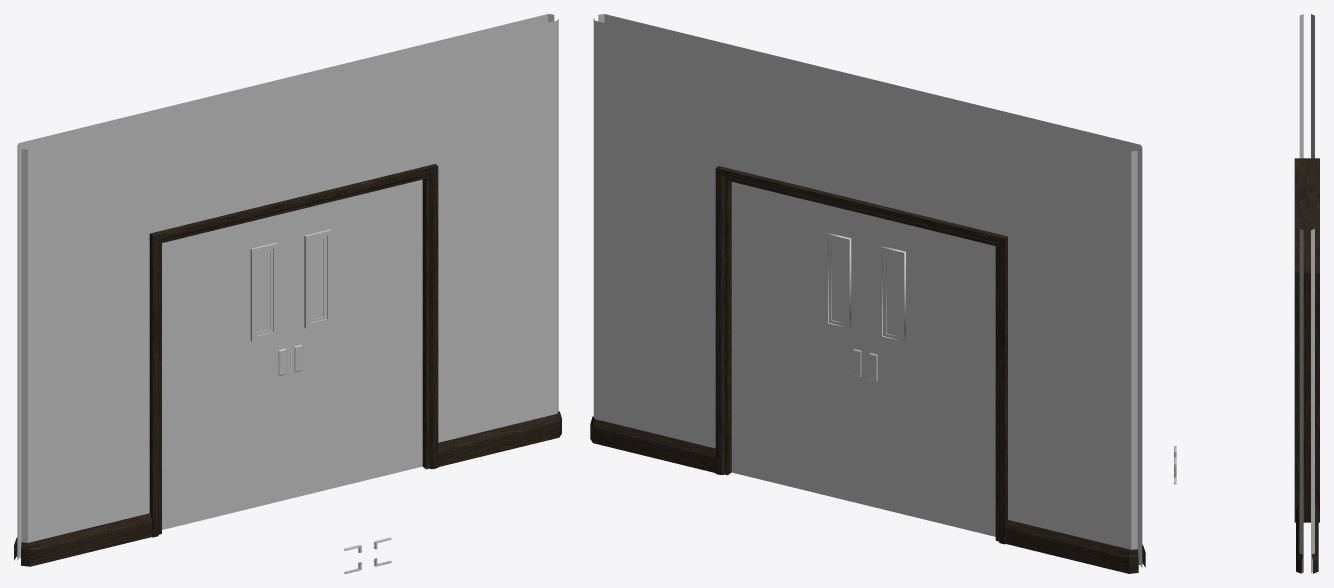
File: doorway_3_wide.fbx
3 renders of one model, left to right at view 1: azimuth 30°, elevation 25°; view 2: azimuth 150°, elevation 25°; view 3: azimuth 270°, elevation 25°, orthographic. The views are drawn at different scales.
Visible parts, largest first — view 1: doorway_3_wide, double_door_3_piece_2, double_door_3_piece_1; view 2: doorway_3_wide, double_door_3_piece_2, double_door_3_piece_1; view 3: doorway_3_wide.
Boxes of the visible parts, x1=… form: doorway_3_wide: x1=14, y1=14, x2=561, y2=566; double_door_3_piece_2: x1=290, y1=179, x2=422, y2=498; double_door_3_piece_1: x1=162, y1=212, x2=290, y2=529; doorway_3_wide: x1=590, y1=14, x2=1145, y2=573; double_door_3_piece_2: x1=731, y1=182, x2=865, y2=504; double_door_3_piece_1: x1=865, y1=214, x2=995, y2=536; doorway_3_wide: x1=1294, y1=14, x2=1319, y2=573.
Size of the model in its own units: 4.09 by 3.09 by 1.16.
